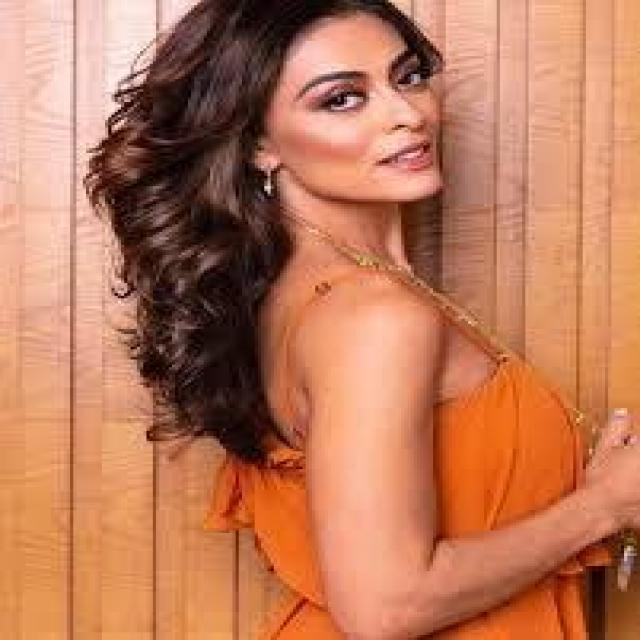person: (82, 0, 633, 637)
